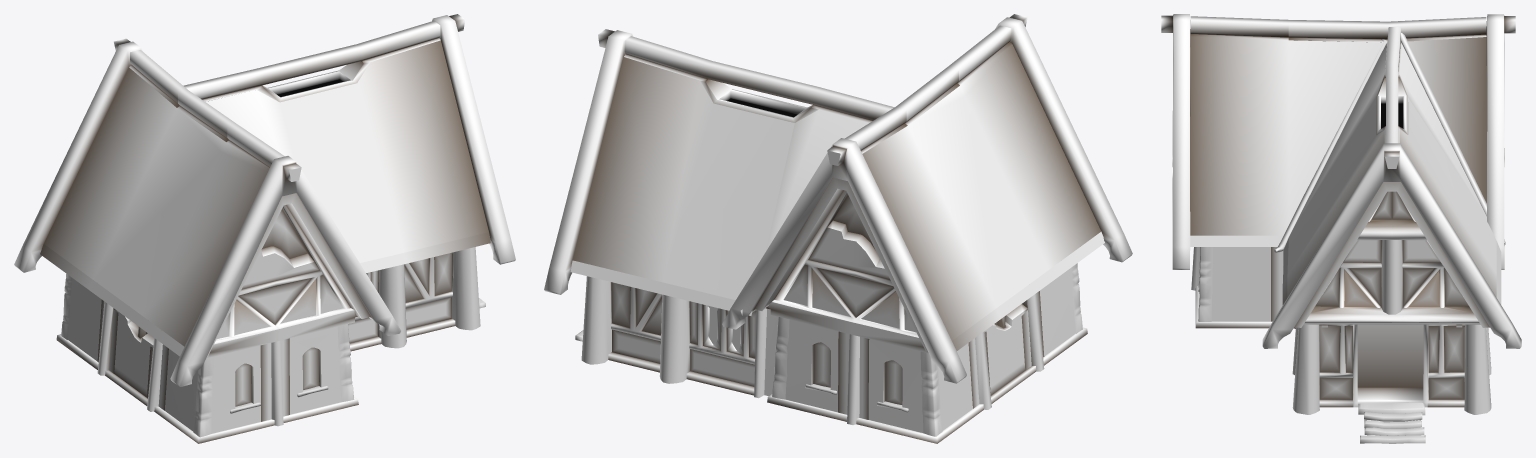
File: WRBreezehome.dae
3 renders of one model, left to right at view 1: azimuth 30°, elevation 25°; view 2: azimuth 150°, elevation 25°; view 3: azimuth 270°, elevation 25°, orthographic. The views are drawn at different scales.
Visible parts, largest first — view 1: WRBreezehome01_wrdragontile01, WRBreezehome01_wrtreedeadbark01, WRBreezehome01_wrcitywall01, WRBreezehome01_wrwoodplanks01, L2_parts_wrplasterdecals, WRBreezehome01_wrdragontile02, WRBreezehome01_wrplasterint01low, WRBreezehome01_wrwoodlattice01, WRBreezehome01_wrwindows01, WRBreezehome01_wrwoodplanks02, WRBreezehome01_wrtrims01; view 2: WRBreezehome01_wrdragontile01, WRBreezehome01_wrtreedeadbark01, WRBreezehome01_wrcitywall01, WRBreezehome01_wrwoodplanks01, L2_parts_wrplasterdecals, WRBreezehome01_wrplasterint01low, WRBreezehome01_wrdragontile02, WRBreezehome01_wrwoodlattice01, WRBreezehome01_wrwindows01, WRBreezehome01_wrtrims01, WRBreezehome01_wrwoodplanks02; view 3: WRBreezehome01_wrdragontile01, WRBreezehome01_wrtreedeadbark01, WRBreezehome01_wrwoodplanks01, WRBreezehome01_wrplasterint01low, WRBreezehome01_wrcitywall01, WRBreezehome01, WRBreezehome01_wrwoodlattice01, L2_parts_wrslate01, L2_parts_wrplasterdecals, WRBreezehome01_wrdragontile02.
Part boxes in pixels (x1,y1,x2,y2): WRBreezehome01_wrdragontile01: (44,38,488,346); WRBreezehome01_wrtreedeadbark01: (14,14,515,426); WRBreezehome01_wrcitywall01: (67,246,342,433); WRBreezehome01_wrwoodplanks01: (56,61,455,443); L2_parts_wrplasterdecals: (61,274,353,437); WRBreezehome01_wrdragontile02: (40,232,490,356); WRBreezehome01_wrplasterint01low: (348,252,452,343); WRBreezehome01_wrwoodlattice01: (207,193,370,356); WRBreezehome01_wrwindows01: (235,347,319,406); WRBreezehome01_wrwoodplanks02: (146,209,307,334); WRBreezehome01_wrtrims01: (286,167,361,318); WRBreezehome01_wrdragontile01: (573,42,1101,340); WRBreezehome01_wrtreedeadbark01: (544,14,1132,424); WRBreezehome01_wrcitywall01: (764,220,1075,432); WRBreezehome01_wrwoodplanks01: (608,79,1087,443); L2_parts_wrplasterdecals: (772,263,1082,436); WRBreezehome01_wrplasterint01low: (611,282,756,386); WRBreezehome01_wrdragontile02: (570,231,1104,350); WRBreezehome01_wrwoodlattice01: (754,177,927,351); WRBreezehome01_wrwindows01: (708,306,902,404); WRBreezehome01_wrtrims01: (762,150,843,310); WRBreezehome01_wrwoodplanks02: (833,195,997,324); WRBreezehome01_wrdragontile01: (1190,34,1496,297); WRBreezehome01_wrtreedeadbark01: (1161,14,1521,414); WRBreezehome01_wrwoodplanks01: (1195,33,1505,407); WRBreezehome01_wrplasterint01low: (1315,240,1468,399); WRBreezehome01_wrcitywall01: (1212,247,1270,321); WRBreezehome01: (1357,324,1423,387); WRBreezehome01_wrwoodlattice01: (1294,182,1489,327); L2_parts_wrslate01: (1358,402,1425,443); L2_parts_wrplasterdecals: (1198,247,1283,321); WRBreezehome01_wrdragontile02: (1190,235,1501,304).
Bounding box in the file's own units: 8.99 × 6.96 × 6.06.
